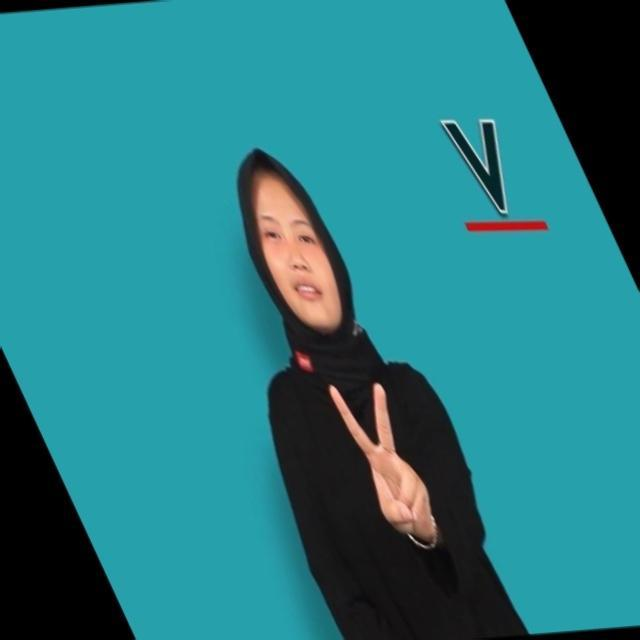V: (316, 369, 436, 544)
